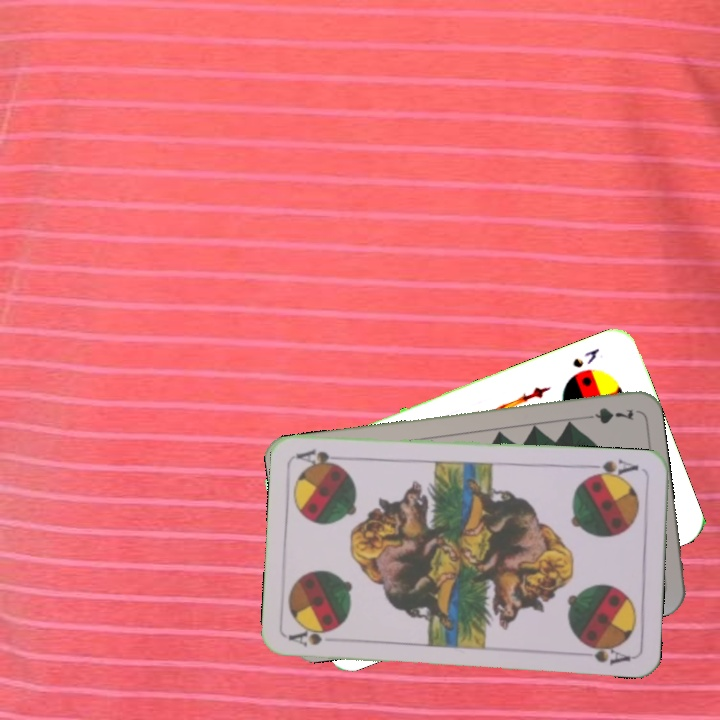G7: (577, 403, 637, 427)
SA: (584, 455, 641, 483), (285, 625, 337, 649)
SK: (568, 344, 602, 371)
